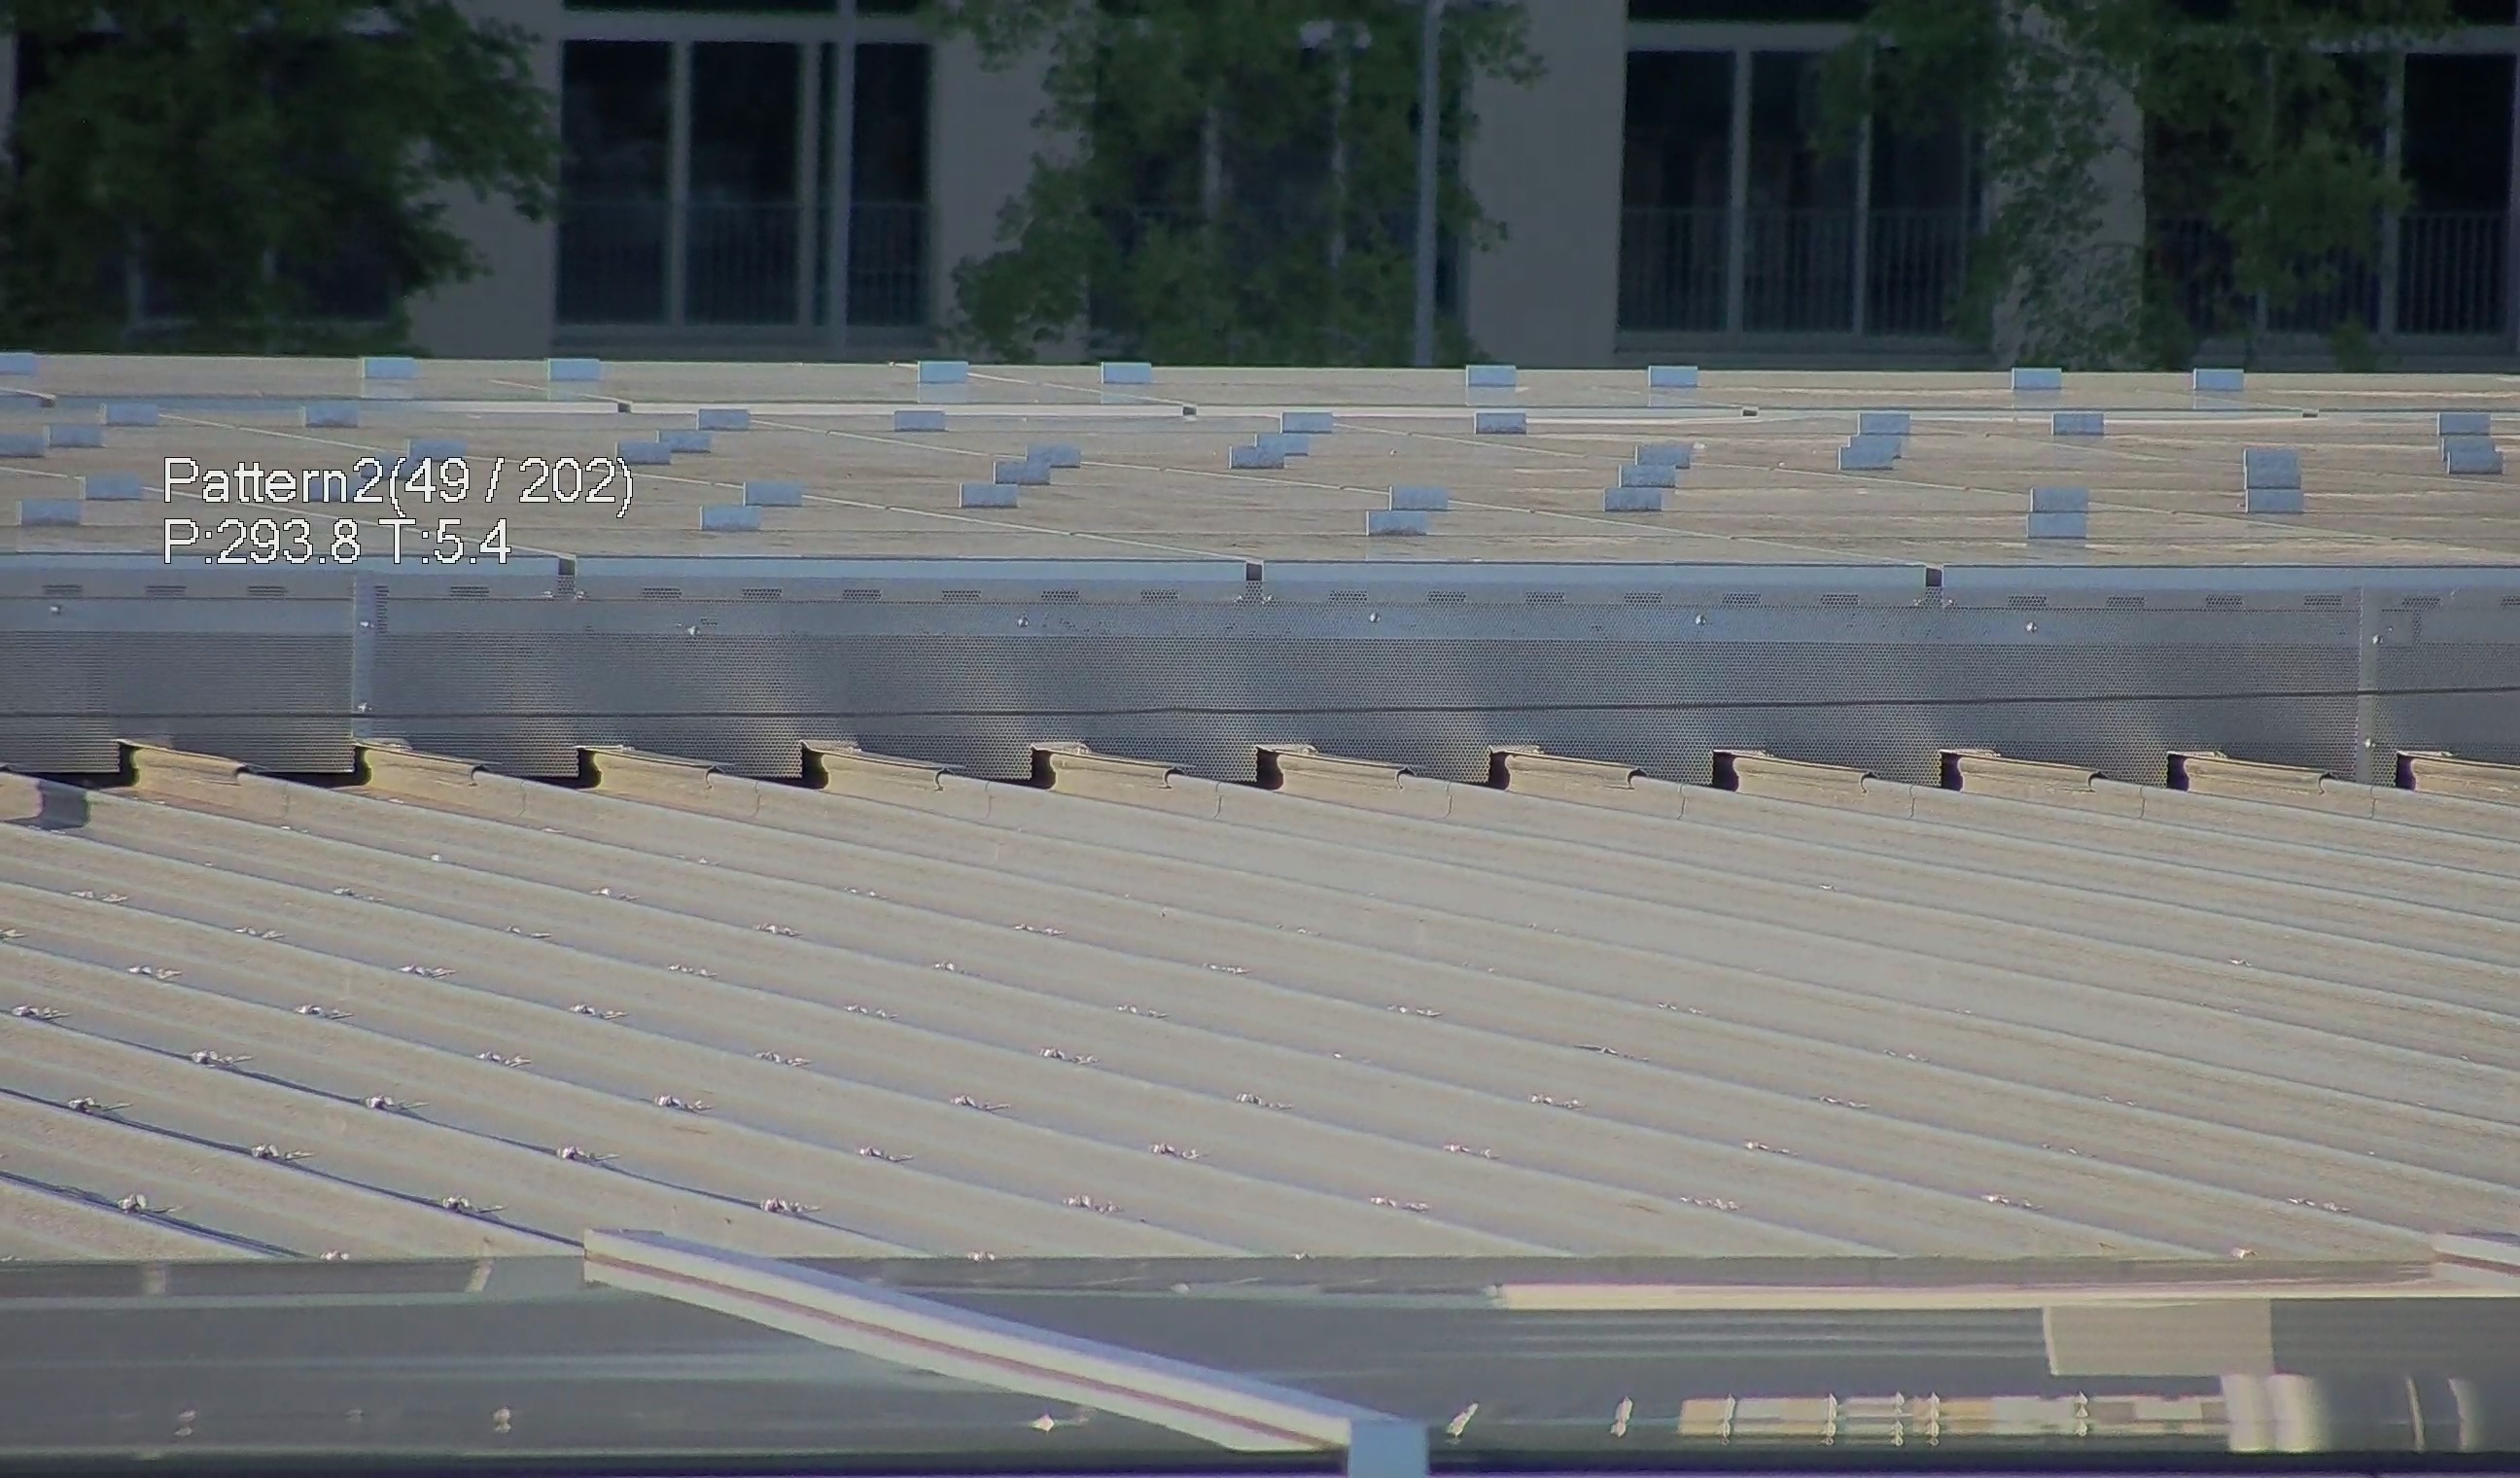Other: (776, 734, 821, 788)
